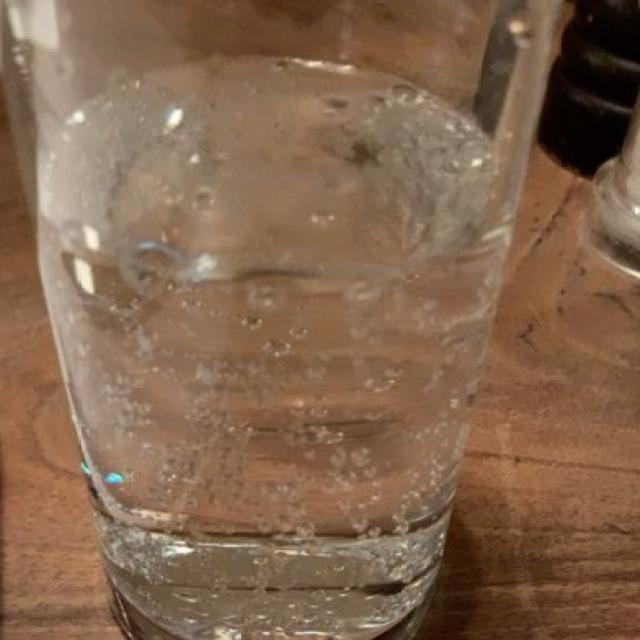water-mineral: (47, 88, 509, 595)
